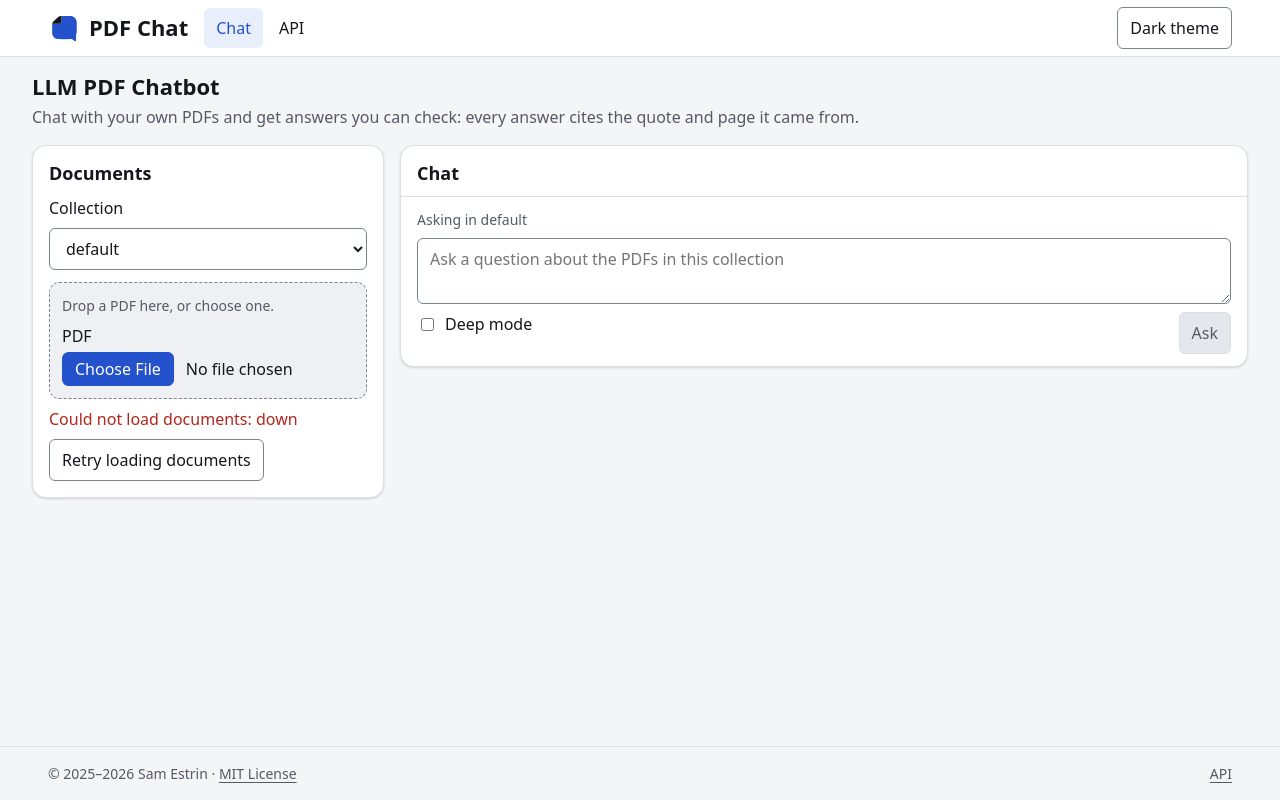
App › shows the chat first-run state once a retried load finds no documents
Expected: the text "Could not load documents: down" is shown, [49,408,298,430]
Expected: the heading "Nothing to ask about yet" is not shown
Click the button "Retry loading documents" at (156, 460), box [49,439,264,481]
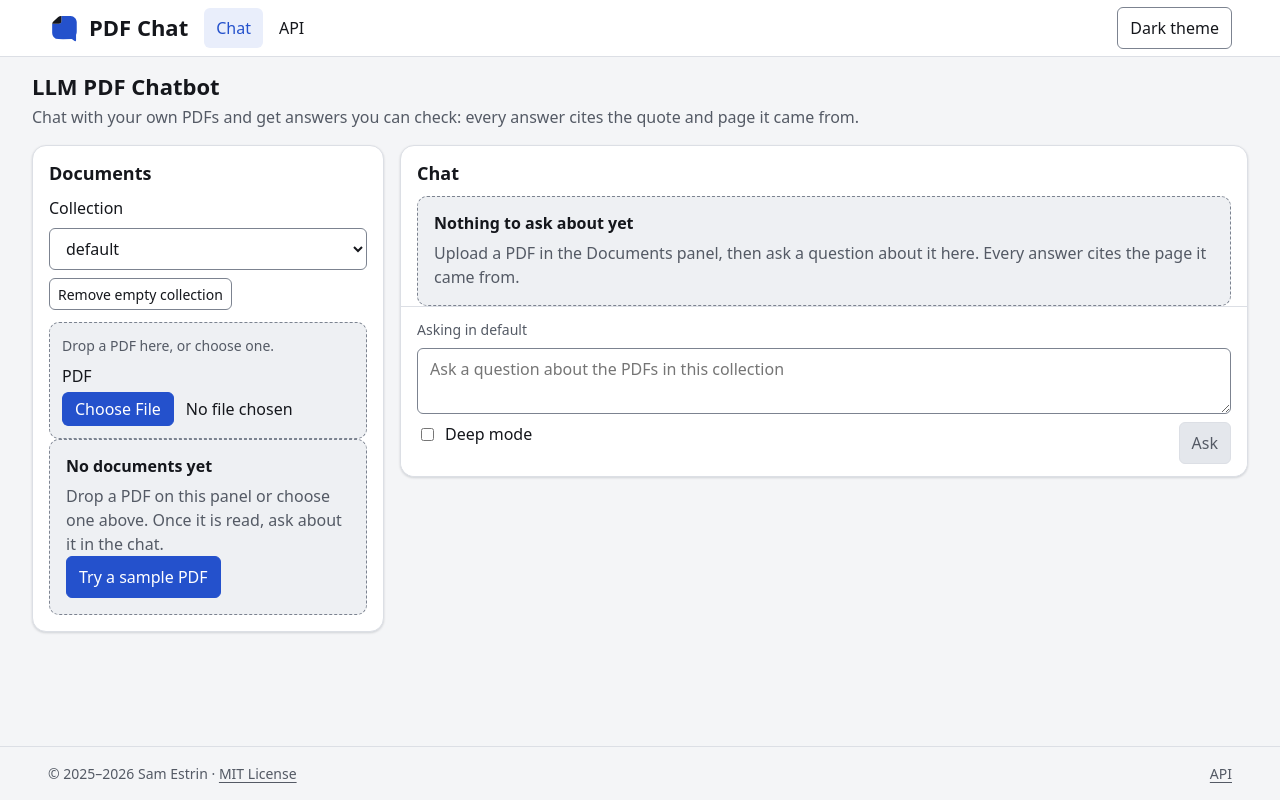
Now the heading "Nothing to ask about yet" is shown, box [434,212,634,234]
